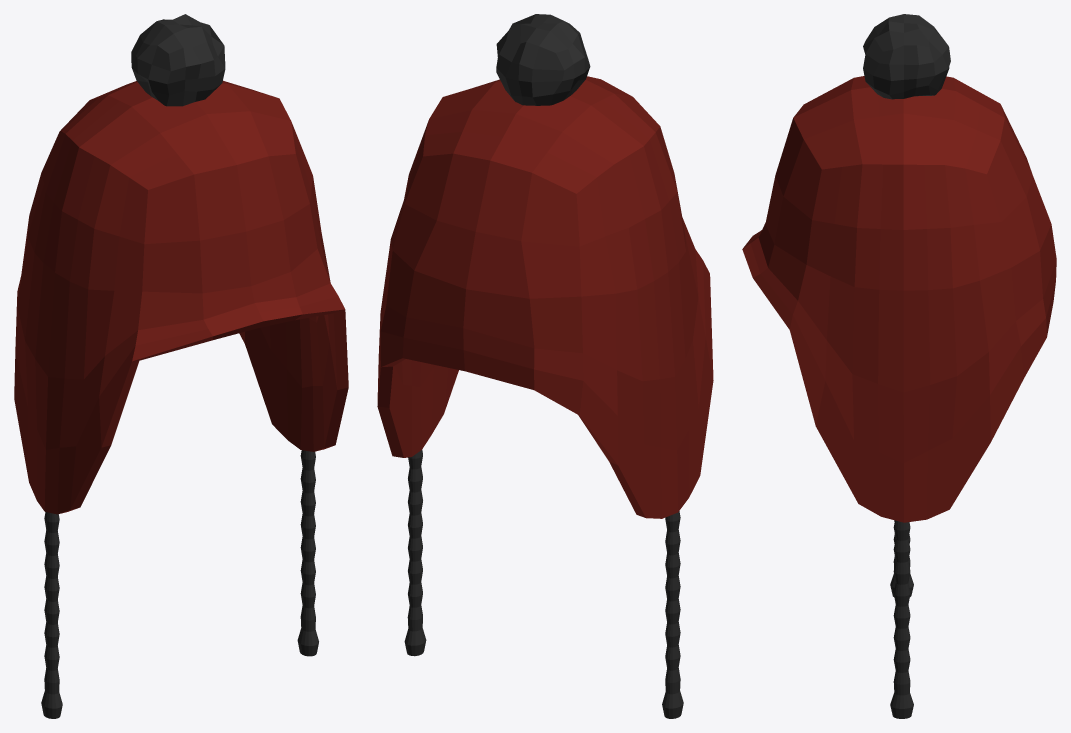
File: beanie_cap_FBX.fbx
3 renders of one model, left to right at view 1: azimuth 30°, elevation 25°; view 2: azimuth 150°, elevation 25°; view 3: azimuth 270°, elevation 25°, orthographic. The views are drawn at different scales.
Parts seen in each view (by area): view 1: KnitCap; view 2: KnitCap; view 3: KnitCap.
Boxes of the visible parts, box(x1,y1,x2,y2) form: KnitCap: box(14, 14, 348, 718); KnitCap: box(377, 14, 713, 718); KnitCap: box(742, 14, 1056, 718).
Bounding box in the file's own units: 17.49 × 40.38 × 18.12.
